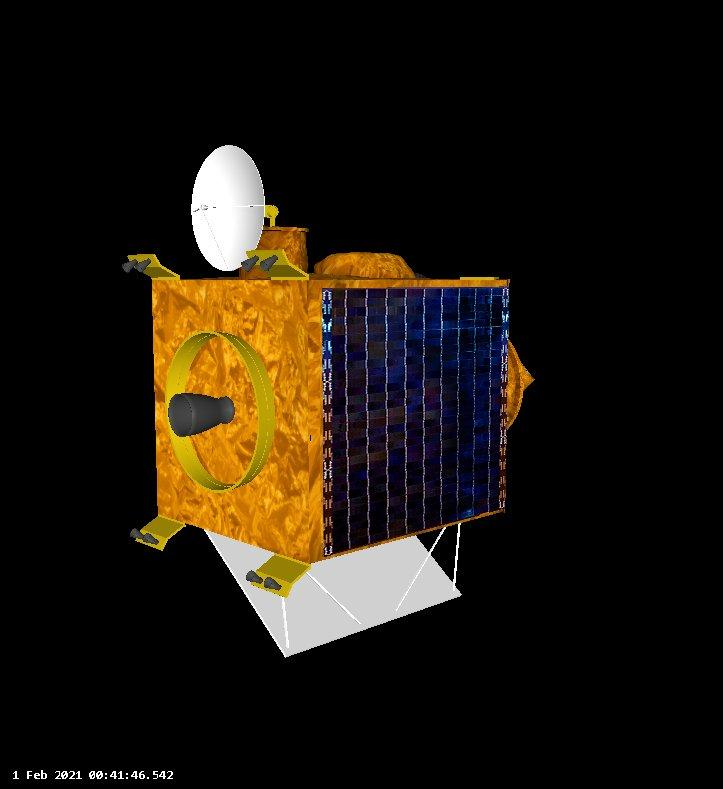antenna: (189, 142, 267, 273)
body: (146, 272, 511, 566)
solar: (321, 283, 512, 558), (201, 528, 464, 659)
thruster: (166, 390, 236, 438), (259, 254, 279, 272), (240, 255, 260, 273), (263, 576, 283, 591), (134, 257, 151, 273), (245, 570, 264, 584), (122, 258, 139, 272), (143, 531, 160, 545), (130, 527, 145, 540)
